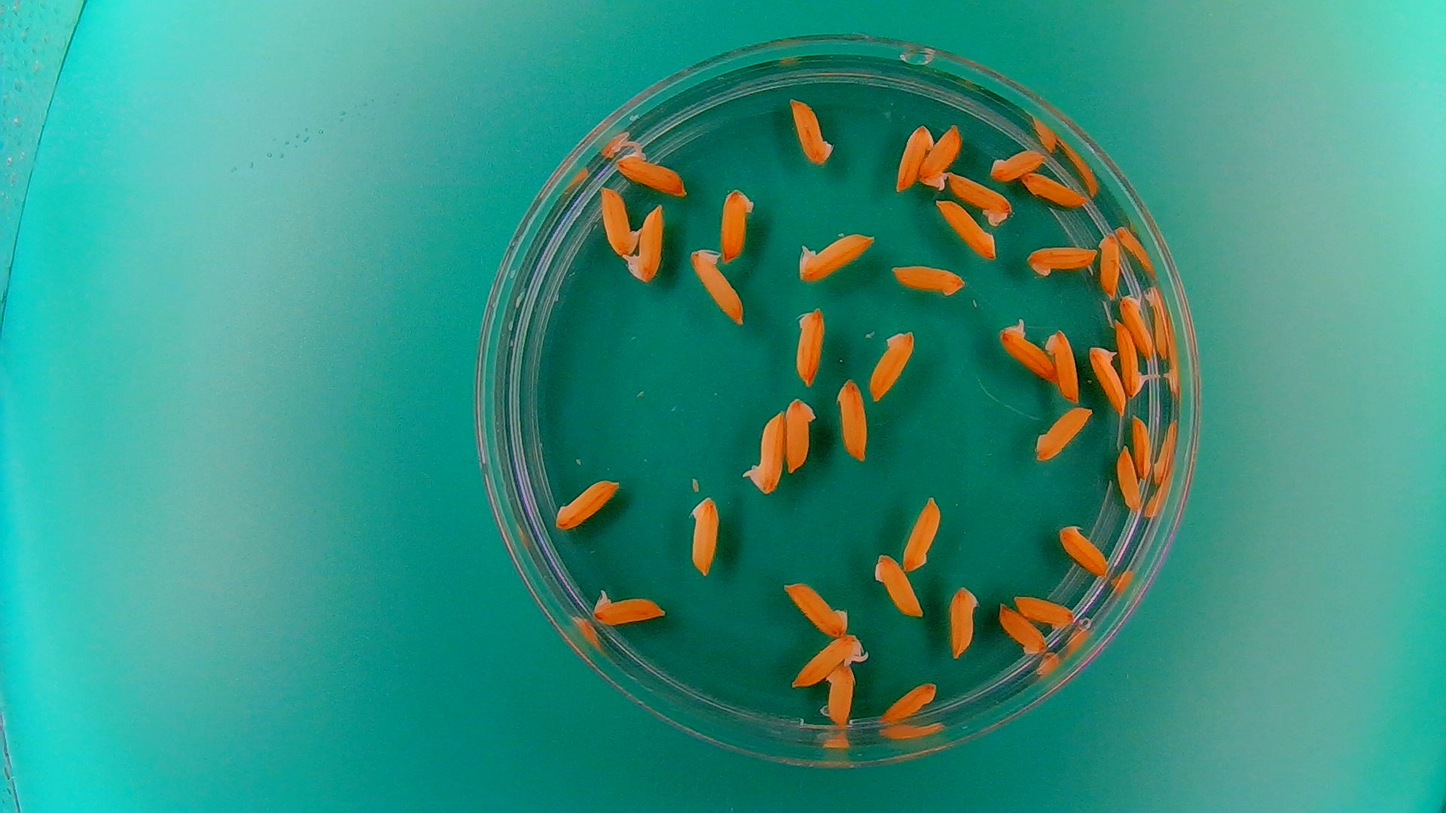no: (687, 245, 748, 327), (779, 576, 850, 637), (933, 196, 999, 260), (865, 324, 916, 403), (551, 474, 621, 531), (871, 549, 926, 620), (913, 118, 964, 194), (1031, 403, 1094, 463), (899, 492, 944, 574), (886, 260, 972, 302), (787, 93, 835, 167), (1055, 519, 1111, 579), (834, 375, 870, 464), (718, 184, 757, 264), (1042, 324, 1081, 403), (893, 120, 935, 193), (792, 303, 828, 388), (877, 678, 940, 726), (994, 600, 1048, 656), (687, 490, 721, 577), (1024, 240, 1099, 279), (945, 581, 981, 661), (782, 394, 818, 473), (1020, 168, 1089, 208), (1011, 591, 1076, 631), (987, 145, 1045, 184), (824, 661, 856, 730), (1114, 443, 1141, 514), (1097, 230, 1122, 299), (1130, 412, 1154, 480)
yes: (792, 226, 880, 284), (787, 631, 870, 690), (996, 315, 1059, 384), (614, 141, 689, 197), (740, 406, 786, 497), (944, 169, 1014, 226), (624, 200, 666, 285), (596, 181, 642, 257), (589, 584, 670, 626), (1112, 320, 1151, 399), (1086, 341, 1127, 416), (1118, 291, 1157, 355)
